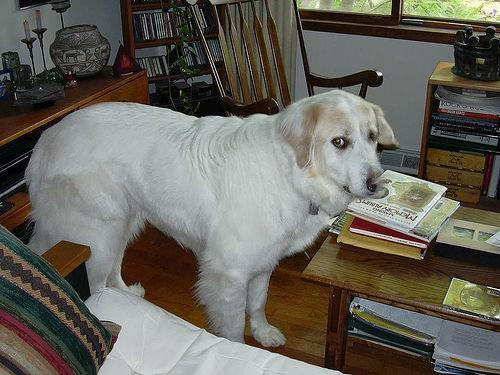Great_Pyrenees: (26, 89, 398, 348)
